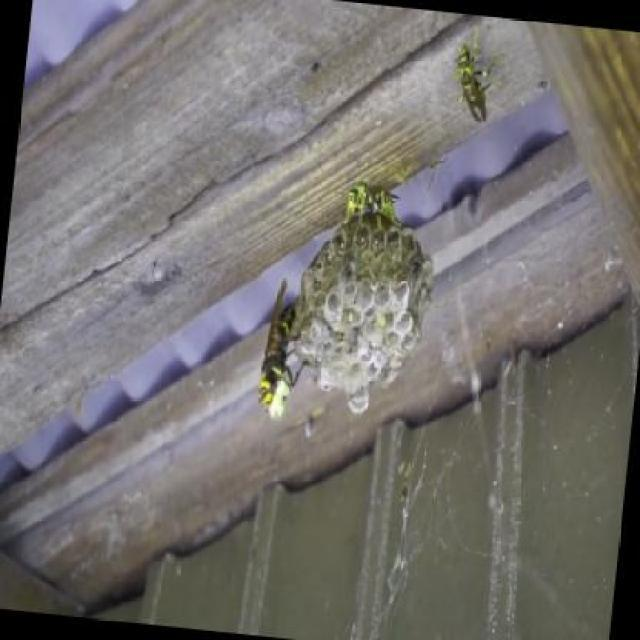Wasp: (260, 283, 310, 413)
